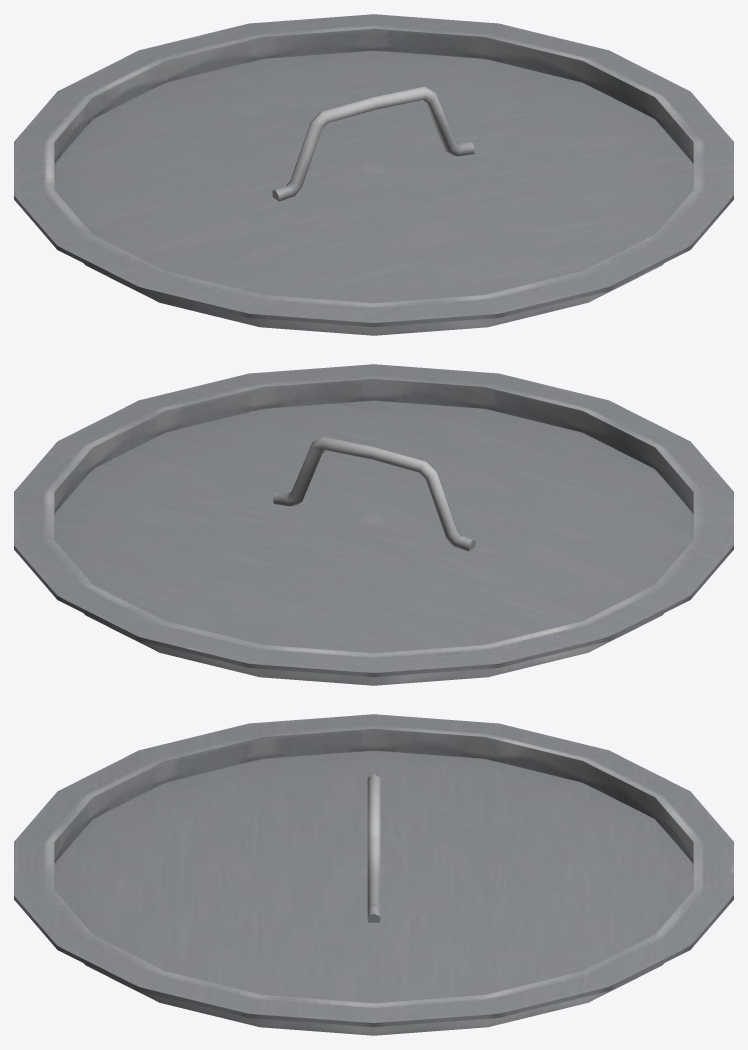
The model's file is SM_Pot_Lid_01.glb.
The picture shows the model from 3 angles, top to bottom: view 1: azimuth 30°, elevation 25°; view 2: azimuth 150°, elevation 25°; view 3: azimuth 270°, elevation 25°; orthographic projection.
Parts seen in each view (by area): view 1: SM_Pot_Lid_01; view 2: SM_Pot_Lid_01; view 3: SM_Pot_Lid_01.
Boxes of the visible parts, bbox=[...] form: SM_Pot_Lid_01: bbox=[14, 14, 733, 335]; SM_Pot_Lid_01: bbox=[14, 364, 733, 685]; SM_Pot_Lid_01: bbox=[14, 714, 733, 1035].
Size of the model in its own units: 0.4193 by 0.0619 by 0.413.
1 material, 1 textured.
